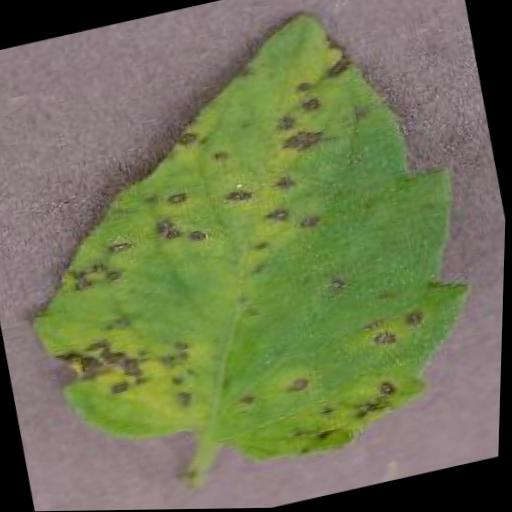Septoria: (0, 0, 504, 508)
